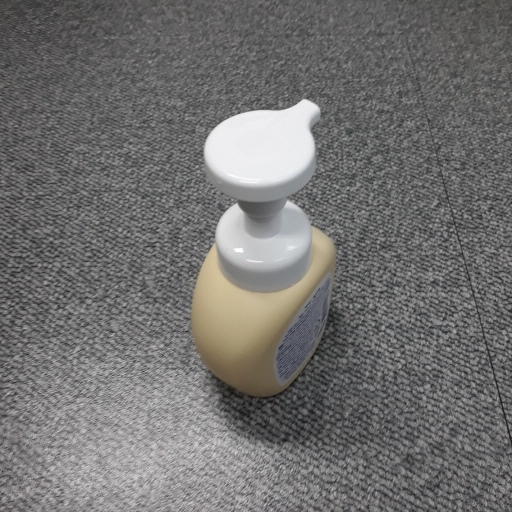Plastic_3: (184, 94, 352, 398)
